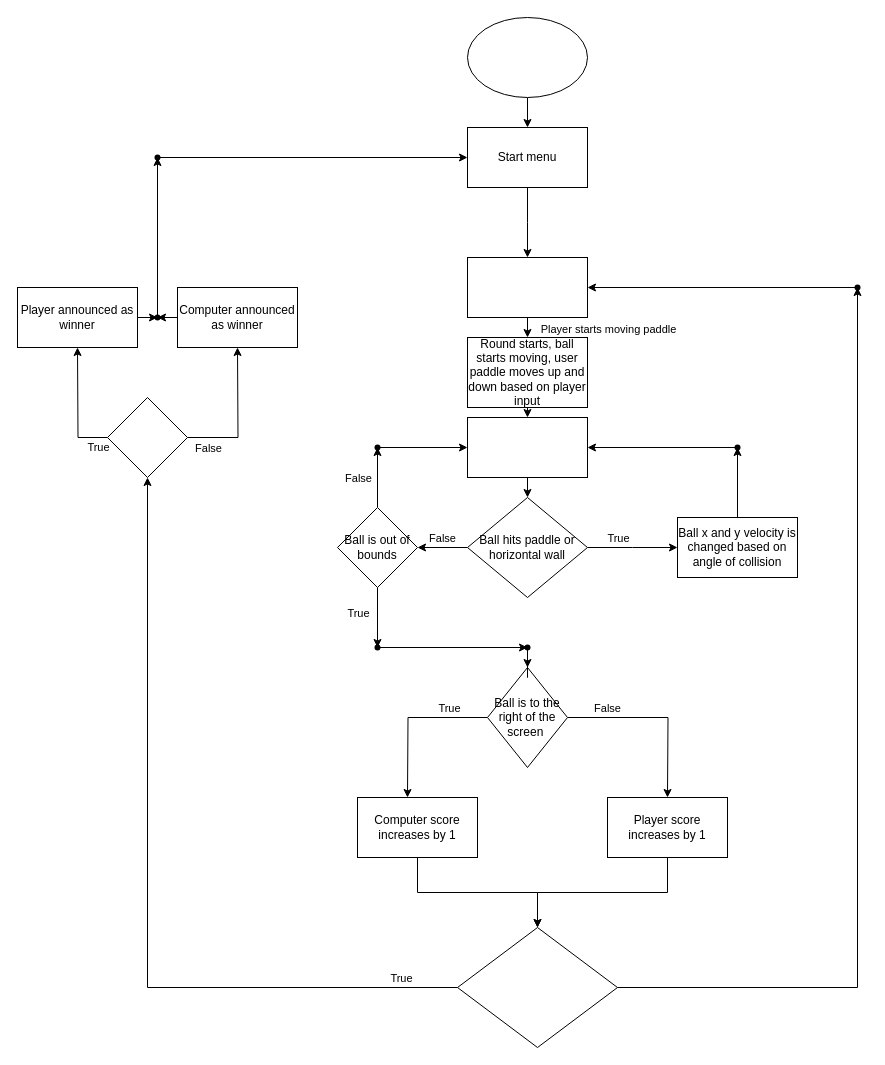
Image size: 885x1065. Some labels were removed from this diagram. The shapes that lost their labels are listed below. From the top down, each one's box as (x1, y1, x2, y2) in pixels, then its label:
(466, 16, 588, 98): Start program
(466, 256, 588, 318): Game scene, ball and paddle positions and speed are reset
(106, 396, 188, 478): Player score is 10
(466, 416, 588, 478): Round is ongoing
(456, 926, 618, 1048): Player or Computer score is 10
